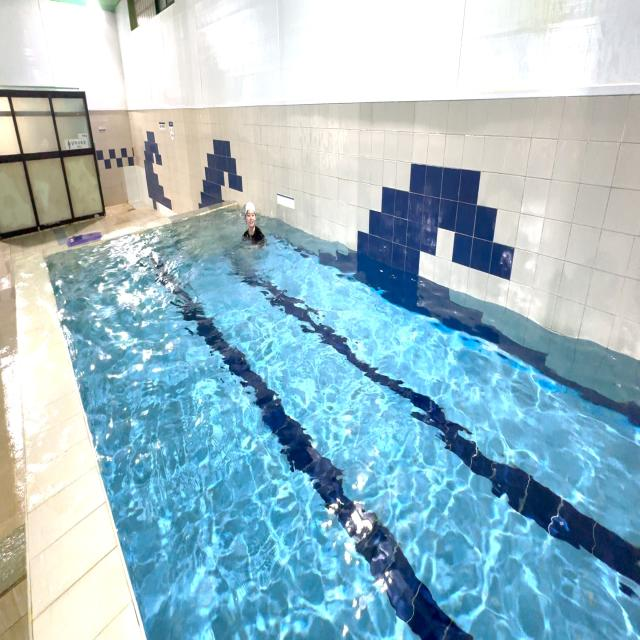Swimming: (236, 193, 266, 250)
